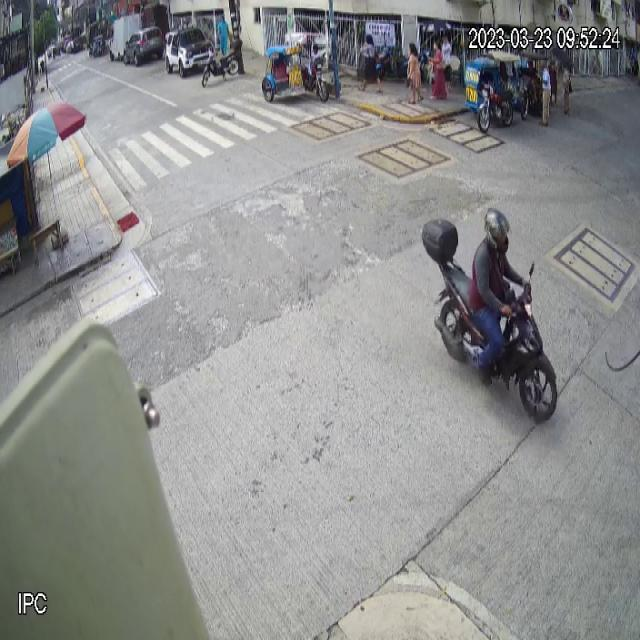Motorcycle: (421, 218, 558, 427)
Tricycle: (261, 31, 330, 104), (464, 50, 520, 133)
